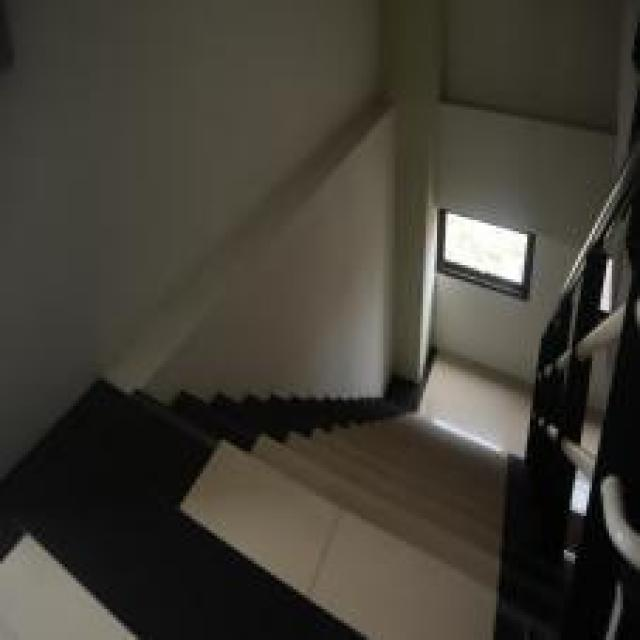downstair: (207, 390, 517, 638)
